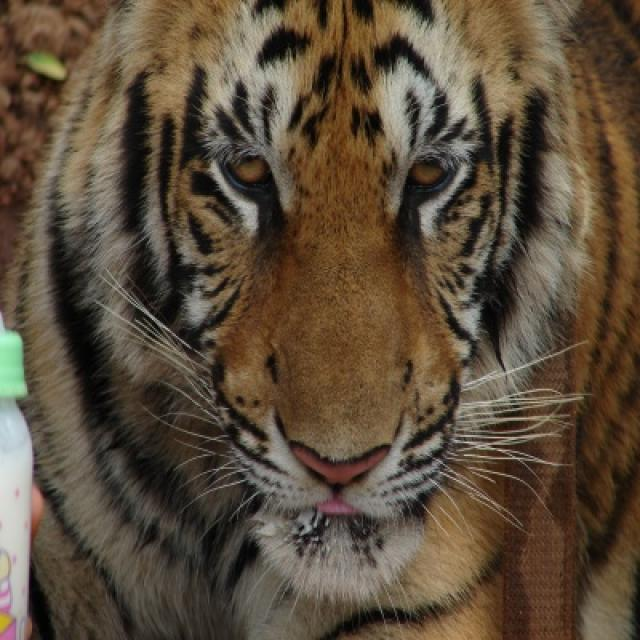Tiger: (47, 0, 588, 612)
